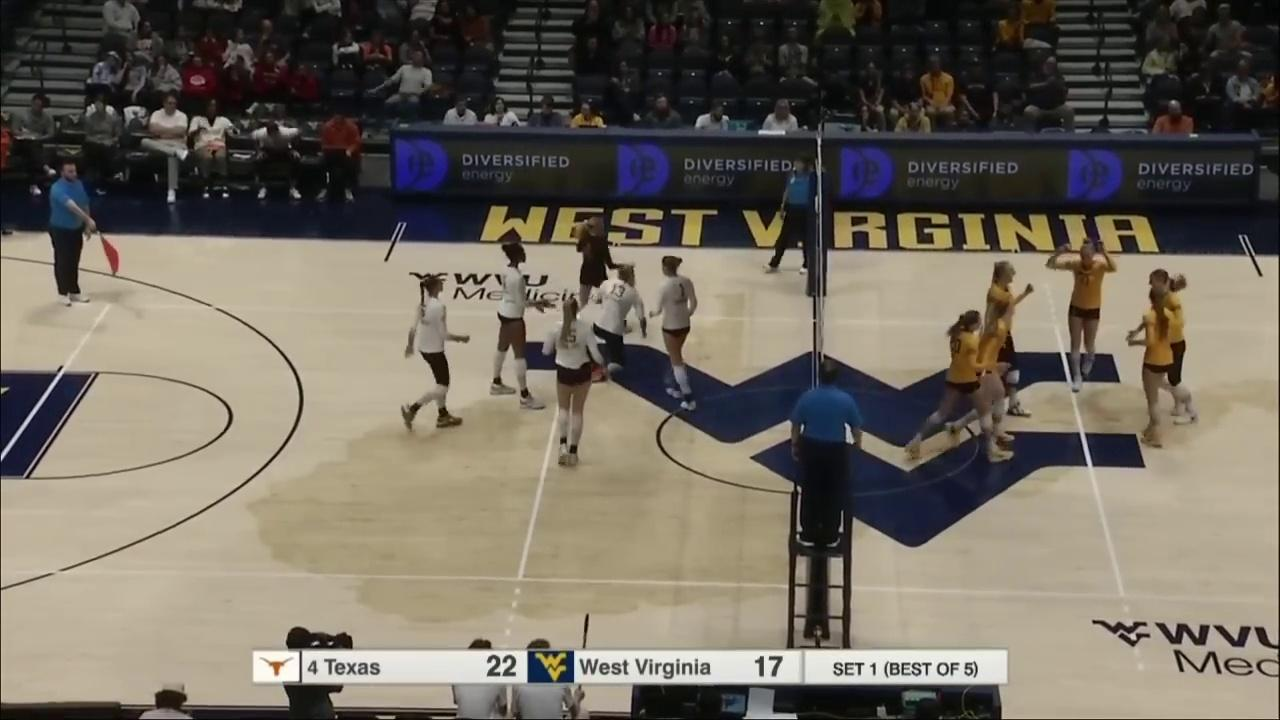player: (905, 307, 1012, 463), (402, 274, 471, 432), (543, 297, 606, 468), (944, 296, 1014, 447), (486, 239, 547, 409), (1050, 238, 1111, 390), (974, 261, 1030, 416), (1128, 290, 1178, 449), (566, 216, 625, 345), (580, 265, 647, 377), (1152, 265, 1197, 427), (655, 256, 699, 413)
refree: (795, 360, 858, 549), (761, 156, 821, 277), (49, 165, 96, 308)
